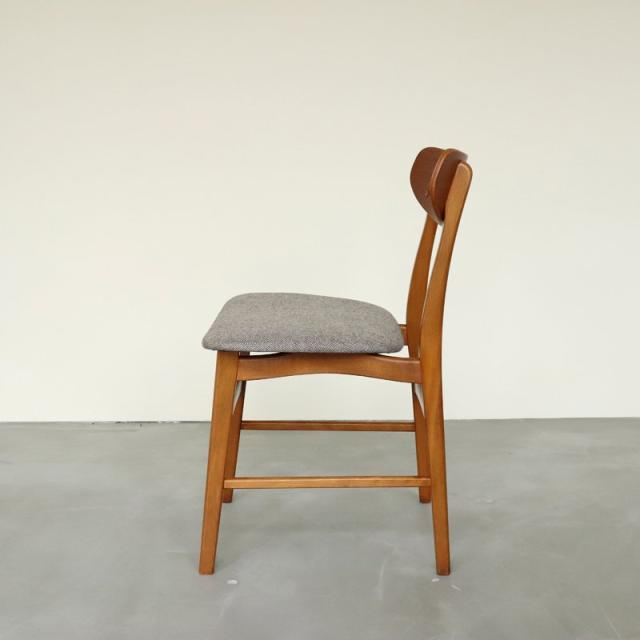chair vintage: (195, 137, 476, 577)
